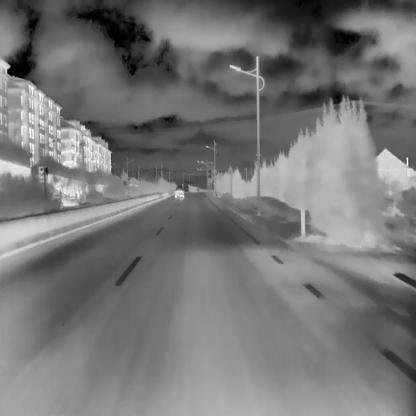car: (174, 184, 184, 198)
